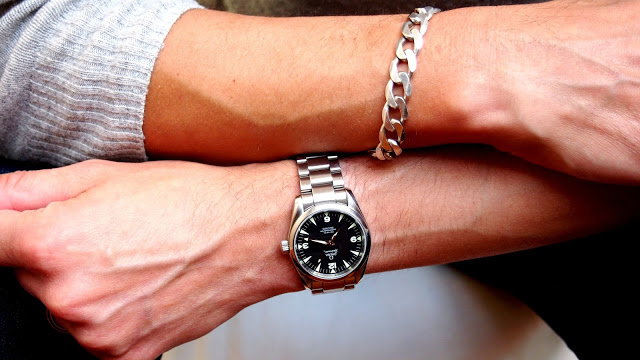clock: (294, 211, 368, 281)
